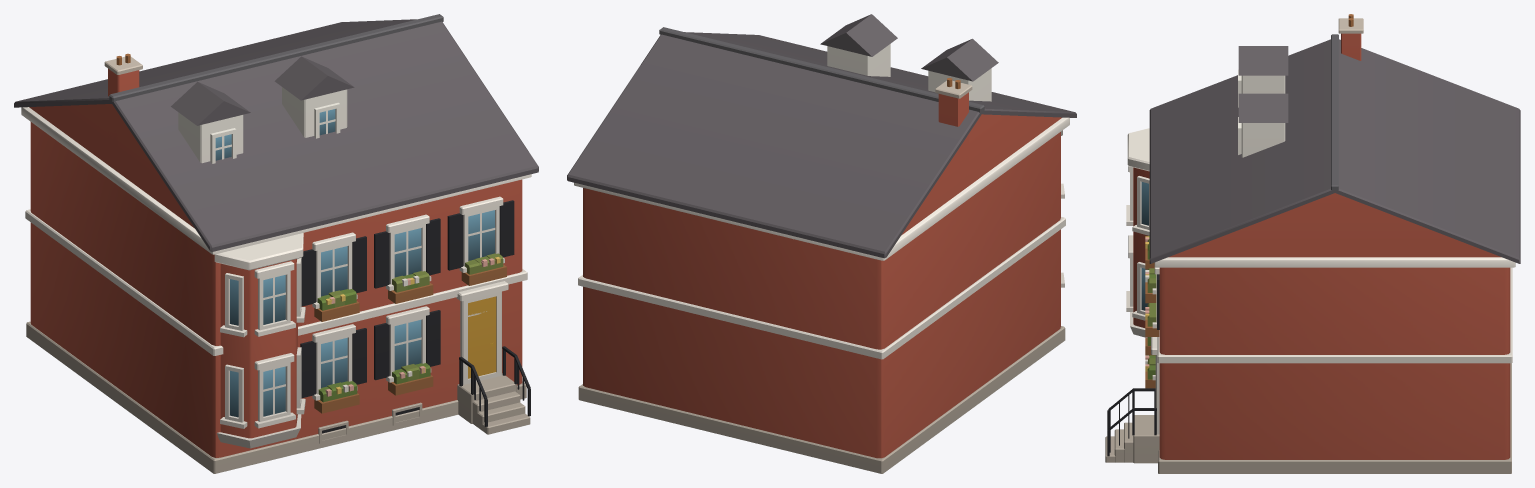
Rendered from vee_right2.glb.
3 views of the same model, side by side, from view 1: azimuth 30°, elevation 25°; view 2: azimuth 150°, elevation 25°; view 3: azimuth 270°, elevation 25° (orthographic). The views are drawn at different scales.
Visible parts, largest first — view 1: vee_right2; view 2: vee_right2; view 3: vee_right2.
Part boxes in pixels (x1,y1,x2,y2): vee_right2: [14, 14, 538, 473]; vee_right2: [567, 14, 1076, 473]; vee_right2: [1105, 14, 1520, 473].
Size of the model in its own units: 12.3 by 12.05 by 14.21.
Materials: 1 (1 with a texture image).
